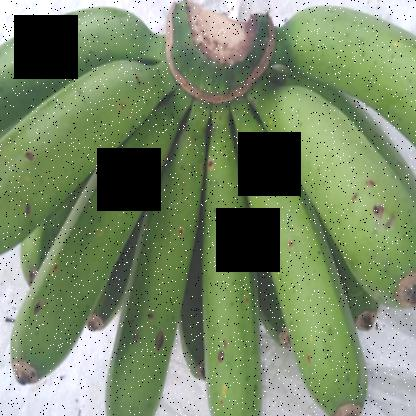unripe: (247, 84, 415, 291), (0, 56, 156, 240), (172, 133, 269, 415), (100, 134, 192, 412), (269, 0, 416, 164)
